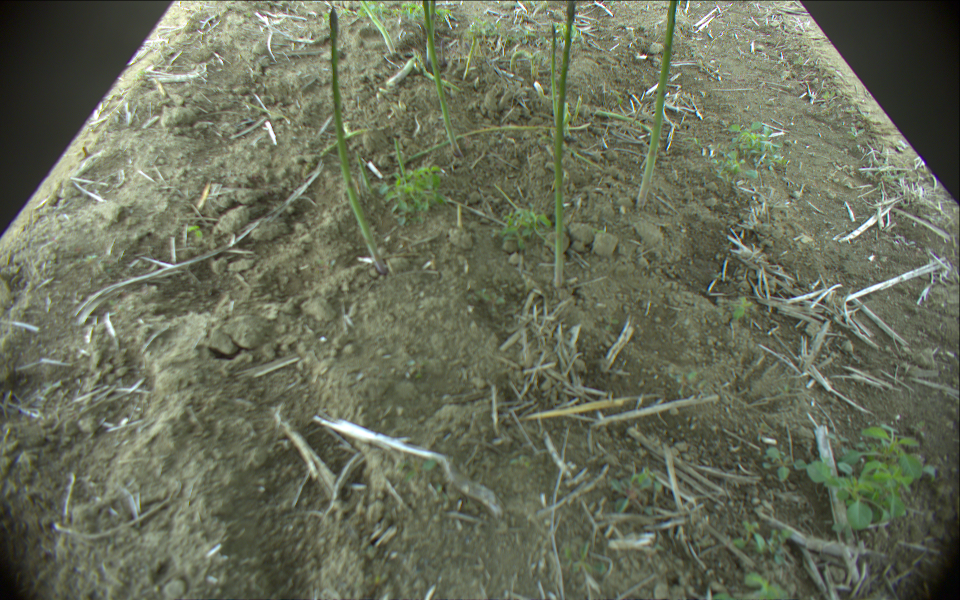aspa: (329, 8, 388, 273), (389, 122, 591, 170), (635, 1, 681, 208), (553, 1, 579, 287), (422, 1, 468, 159), (320, 124, 391, 159), (360, 2, 399, 53), (592, 109, 656, 139), (417, 53, 465, 93), (423, 1, 438, 67), (388, 56, 416, 87), (392, 135, 410, 179)
